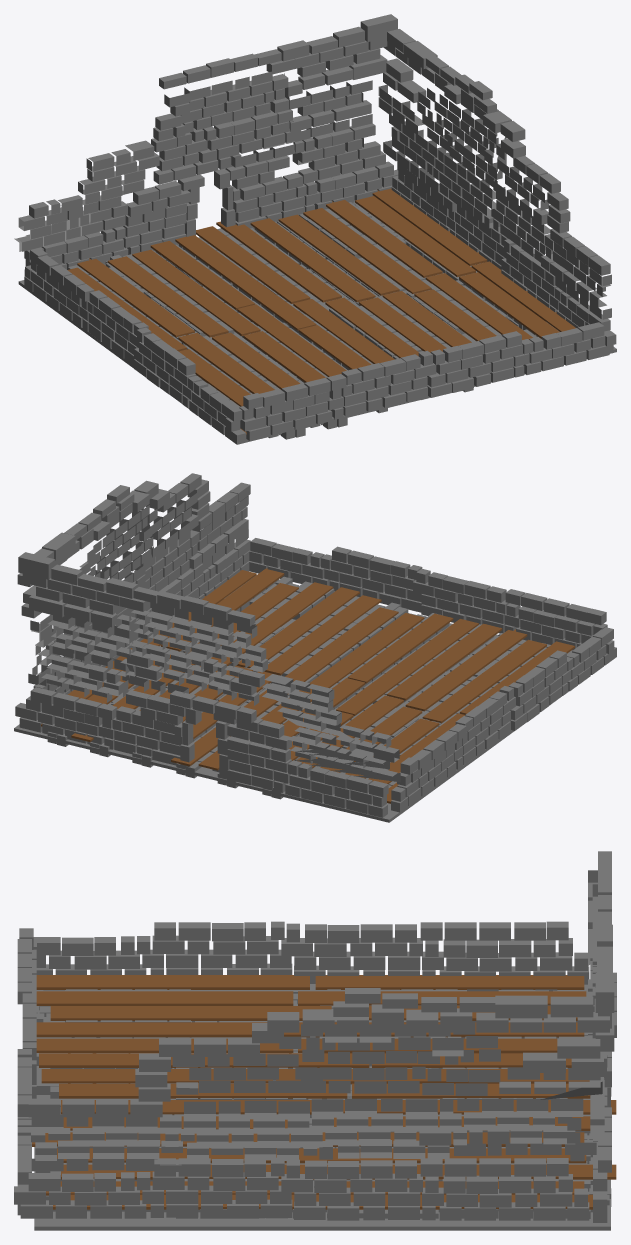
Rendered from map3.fbx.
3 views of the same model, one above another, from view 1: azimuth 30°, elevation 25°; view 2: azimuth 150°, elevation 25°; view 3: azimuth 270°, elevation 25° (orthographic). The views are drawn at different scales.
Visible parts, largest first — view 1: Cube.248, Cube; view 2: Cube.248, Cube; view 3: Cube.248, Cube.
Part boxes in pixels (left/top/right/bottom): Cube.248: left=14, top=14, right=616, bottom=444; Cube: left=67, top=188, right=575, bottom=434; Cube.248: left=14, top=473, right=616, bottom=822; Cube: left=41, top=568, right=574, bottom=803; Cube.248: left=14, top=851, right=616, bottom=1230; Cube: left=32, top=975, right=616, bottom=1209.
Bounding box in the file's own units: 4079 × 1883 × 4182.
